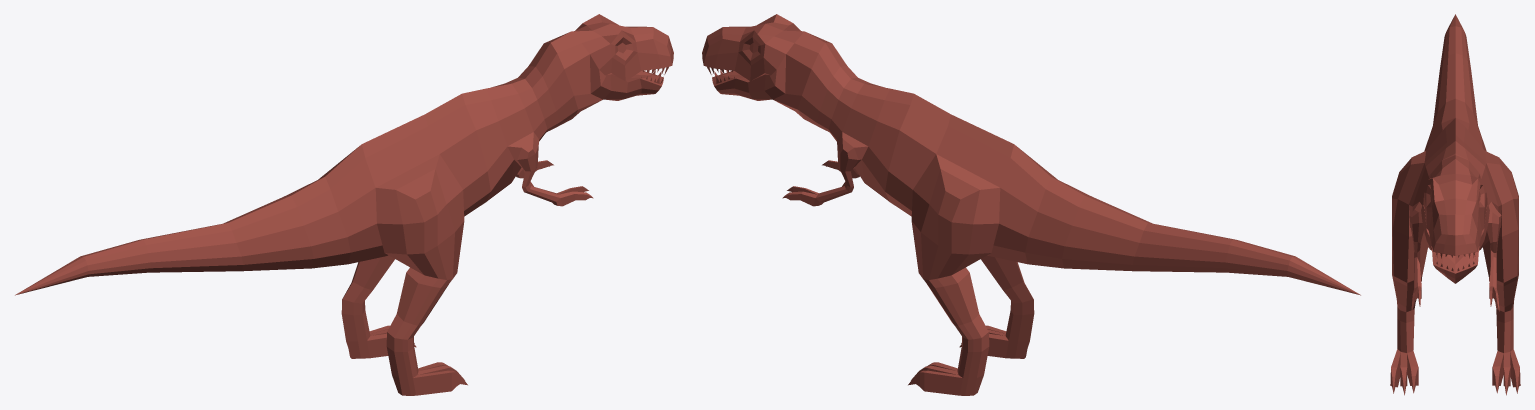
The model's file is T-Rex.glb.
The picture shows the model from 3 angles, left to right: view 1: azimuth 30°, elevation 25°; view 2: azimuth 150°, elevation 25°; view 3: azimuth 270°, elevation 25°; orthographic projection.
Visible parts, largest first — view 1: Cube; view 2: Cube; view 3: Cube.
Part boxes in pixels (bbox=[...]): Cube: bbox=[15, 14, 673, 395]; Cube: bbox=[702, 14, 1360, 395]; Cube: bbox=[1390, 14, 1520, 395].
Size of the model in its own units: 15.14 by 6.6 by 2.56.
